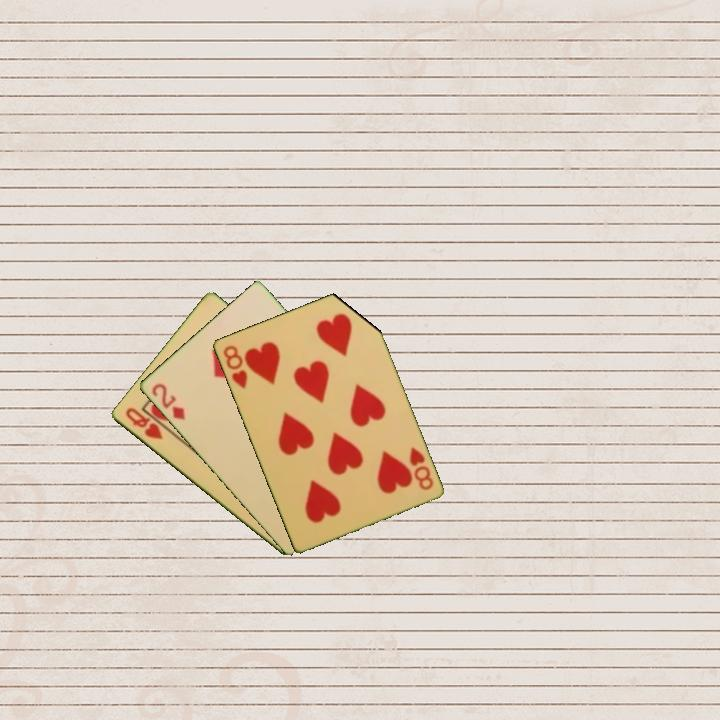2d: (148, 379, 188, 423)
8h: (219, 342, 250, 392), (405, 443, 436, 493)
Qh: (121, 404, 165, 443)
